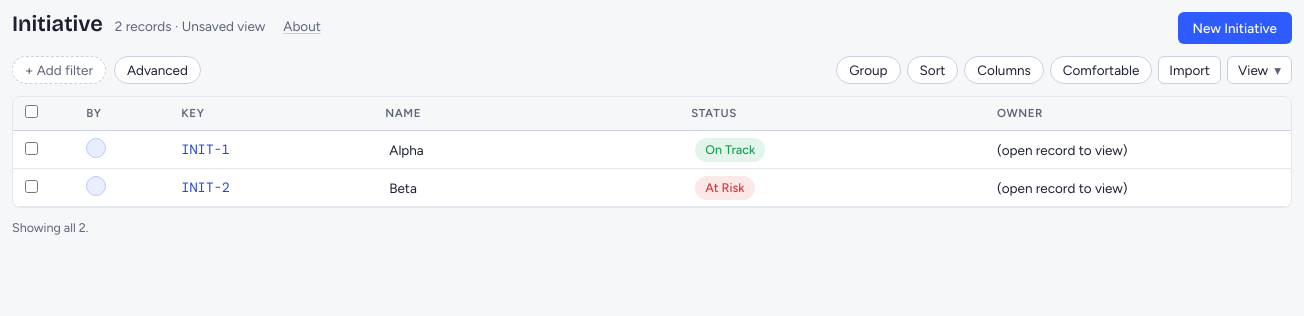
Test: TableView: grouping › groups by a single_select field with per-group headers and counts
Click the button "Group" at (868, 70), box [837,57,900,83]
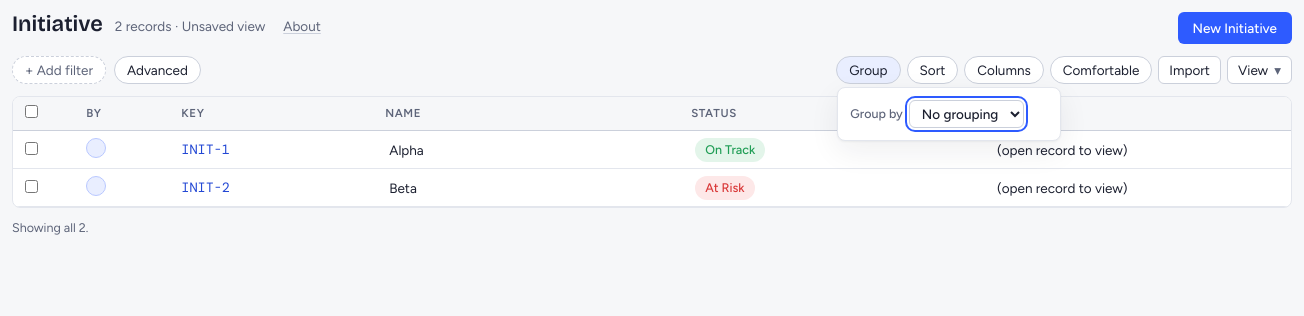
Select "Status" in the dropdown labelled "Group by" at (966, 114), box [909,100,1024,128]
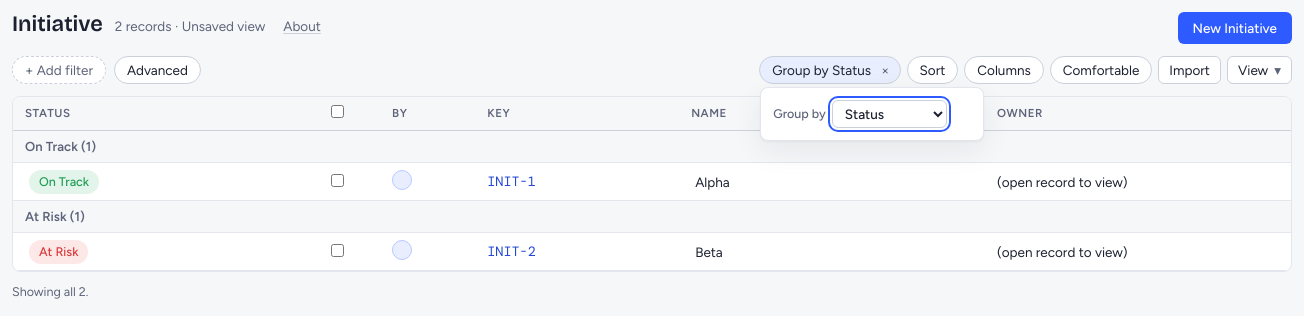
Check: the cell with test id "group-header" reads "On Track (1)", box [13,131,1291,163]
Check: the cell with test id "group-header" reads "At Risk (1)", box [13,201,1291,233]
